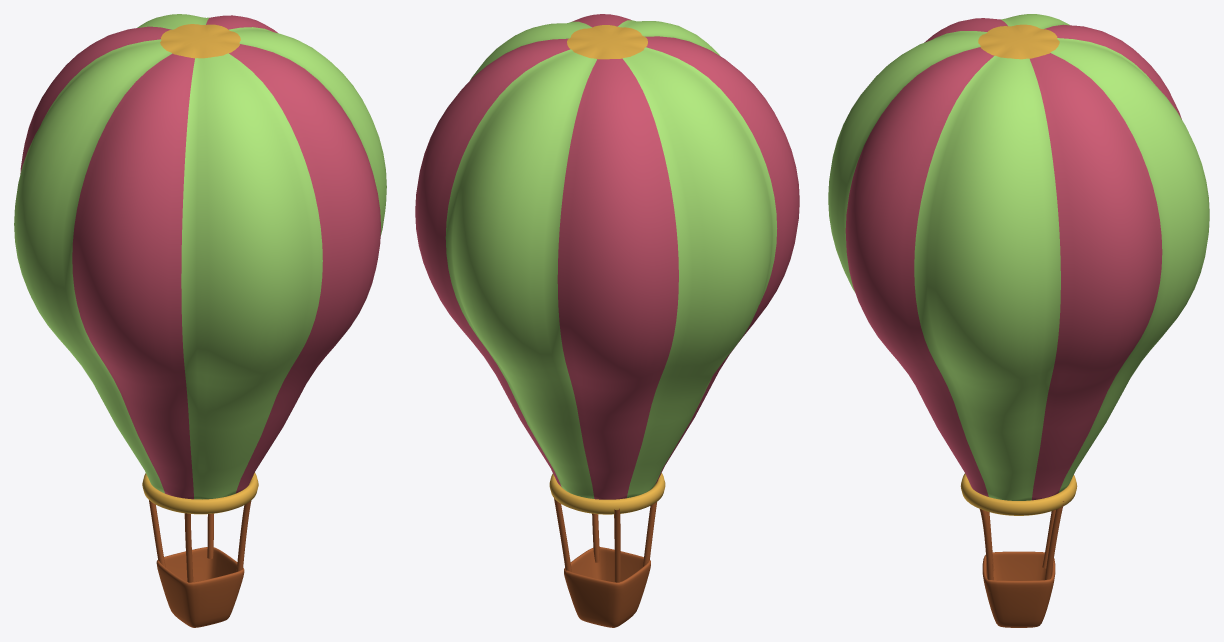
Rendered from Balloon02.fbx.
3 views of the same model, side by side, from view 1: azimuth 30°, elevation 25°; view 2: azimuth 150°, elevation 25°; view 3: azimuth 270°, elevation 25° (orthographic).
Parts seen in each view (by area): view 1: BézierCurve.004; view 2: BézierCurve.004; view 3: BézierCurve.004.
Boxes of the visible parts, left/top/right/bottom form: BézierCurve.004: left=14, top=14, right=386, bottom=627; BézierCurve.004: left=415, top=14, right=799, bottom=627; BézierCurve.004: left=828, top=14, right=1209, bottom=627.
Size of the model in its own units: 245 by 412 by 245.
